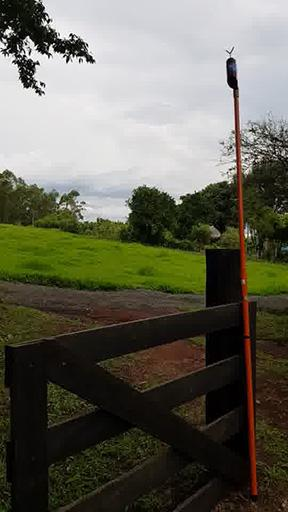Detector_Tensao_Contato: (224, 47, 239, 90)
Vara_Manobra: (232, 89, 259, 497)
